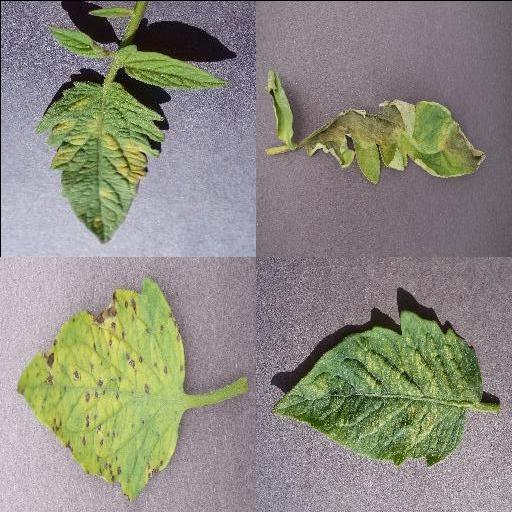Healthy: (122, 45, 224, 89)
Late Blight: (298, 97, 484, 185), (265, 69, 295, 141)
Leaf Mold: (34, 79, 166, 245)
Septoria: (16, 276, 186, 495)
Spider Mites: (270, 307, 480, 464)
